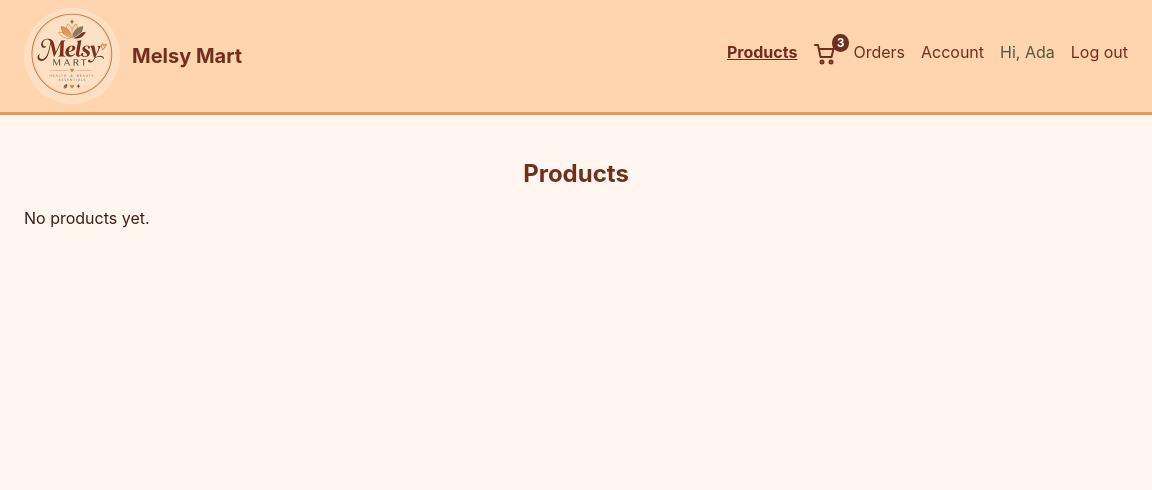
Scenario: the cart link opens the cart page
The image size is (1152, 490).
Click the link named "Cart, 3 items" at coordinates (825, 54), box [813,42,837,66]
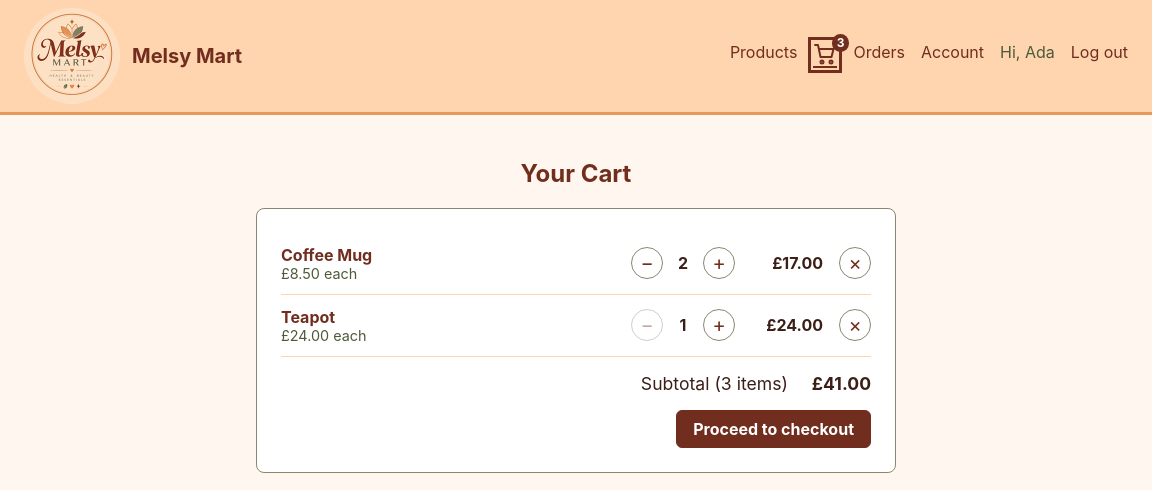
Expected: the heading "Your Cart" is shown, [521,159,631,188]
